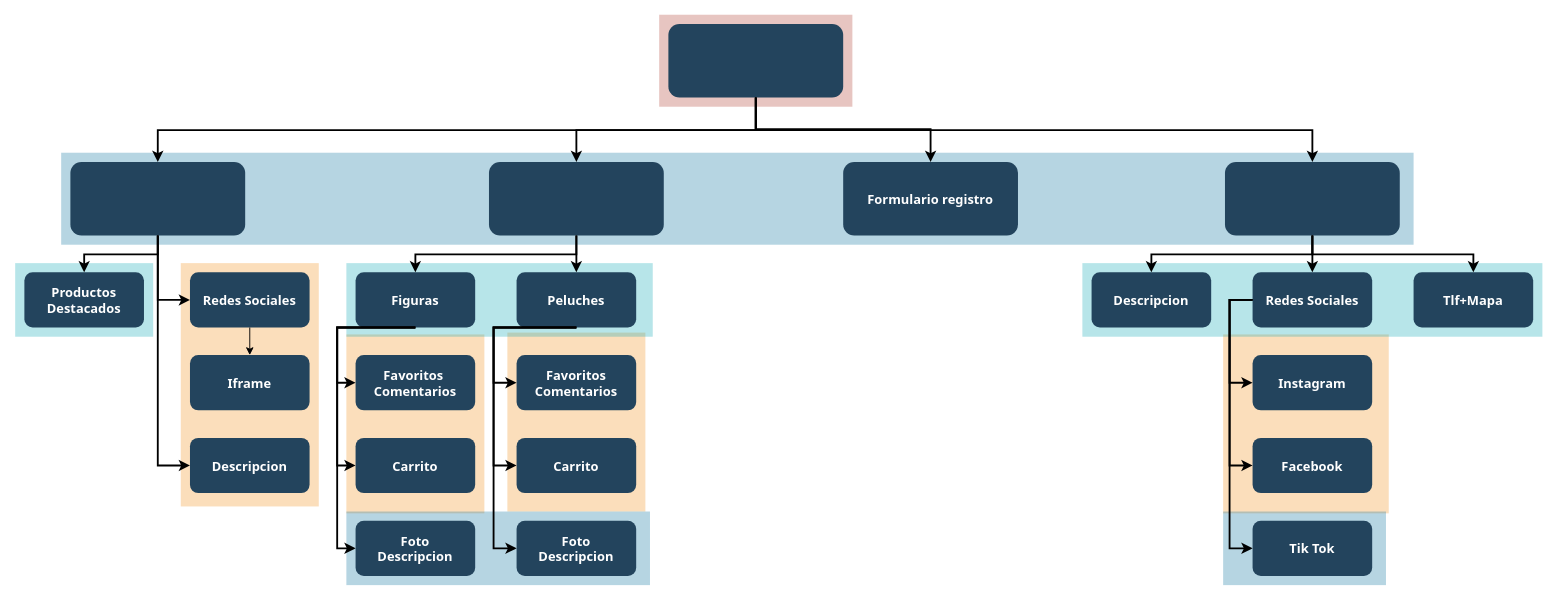
The diagram is 1558 pixels wide and 600 high, and some of its shapes have lost their labels. Each missing label, with the centre of its shape:
Catalogo/ Productos: point (576, 198)
Mundo Friki: point (755, 60)
Principal/Inicio: point (157, 198)
Quienes somos: point (1312, 198)
